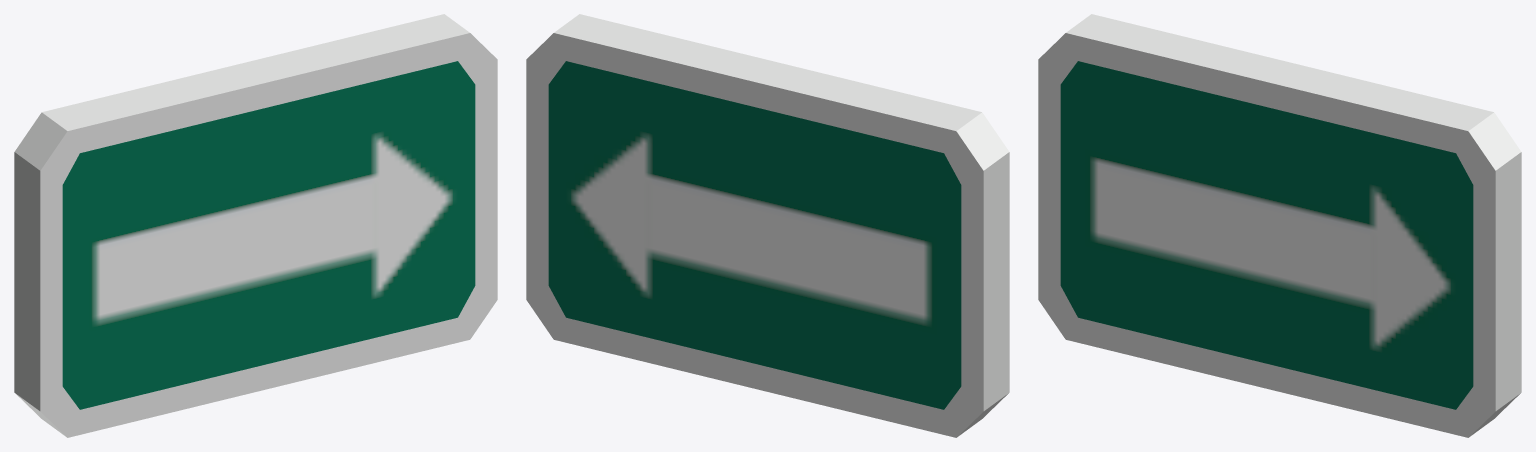
File: SM_Prop_StreetSign_Arrow_01.obj
The picture shows the model from 3 angles, left to right: view 1: azimuth 30°, elevation 25°; view 2: azimuth 150°, elevation 25°; view 3: azimuth 330°, elevation 25°; orthographic projection.
Parts seen in each view (by area): view 1: SM_Prop_StreetSign_Arrow_01_0; view 2: SM_Prop_StreetSign_Arrow_01_0; view 3: SM_Prop_StreetSign_Arrow_01_0.
Part boxes in pixels (x1,y1,x2,y2): SM_Prop_StreetSign_Arrow_01_0: (14,14,497,437); SM_Prop_StreetSign_Arrow_01_0: (526,14,1009,437); SM_Prop_StreetSign_Arrow_01_0: (1038,14,1521,437).
Bounding box in the file's own units: 0.4481 × 0.2874 × 0.044.
Materials: 1 (1 with a texture image).
